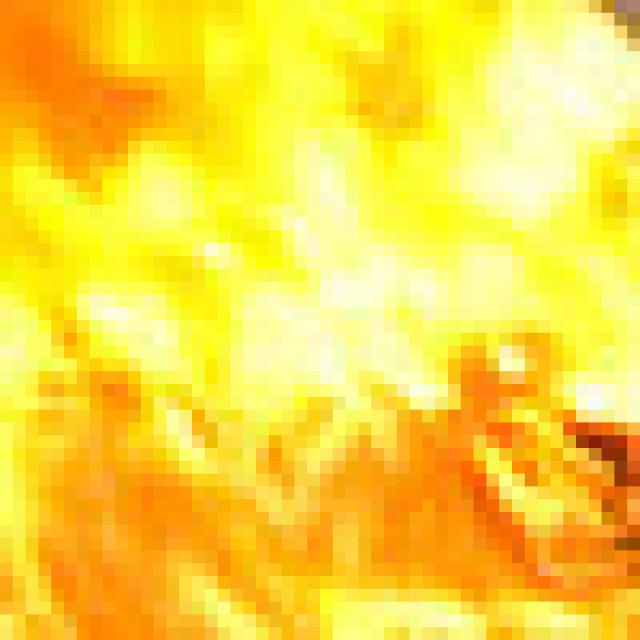fire: (0, 23, 640, 639)
